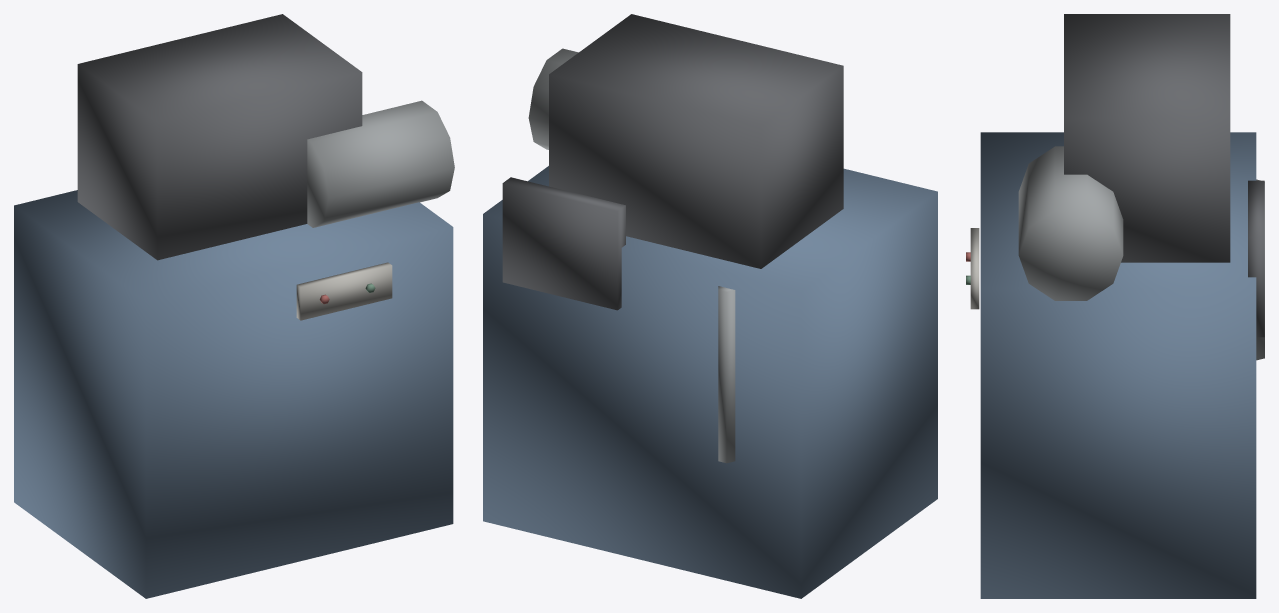
The model's file is library_cart__service.glb.
3 views of the same model, side by side, from view 1: azimuth 30°, elevation 25°; view 2: azimuth 150°, elevation 25°; view 3: azimuth 270°, elevation 25° (orthographic). The views are drawn at different scales.
Parts seen in each view (by area): view 1: world; view 2: world; view 3: world.
Part boxes in pixels (bbox=[...]): world: bbox=[14, 14, 454, 598]; world: bbox=[483, 14, 937, 598]; world: bbox=[966, 14, 1264, 598].
Bounding box in the file's own units: 0.83 × 1.05 × 0.629.
